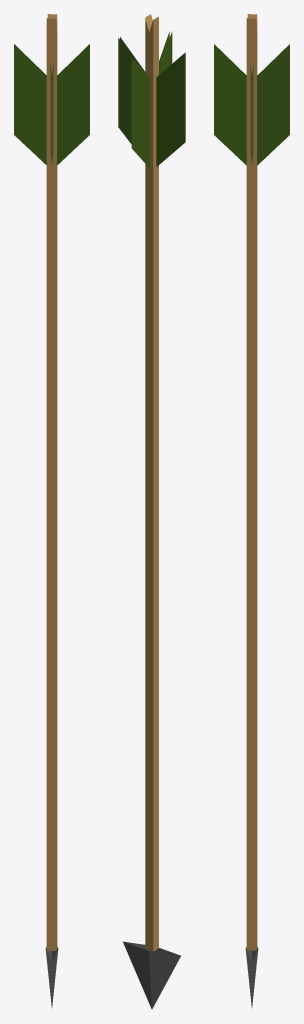
Rendered from Arrow_1.fbx.
3 views of the same model, side by side, from view 1: azimuth 90°, elevation 25°; view 2: azimuth 150°, elevation 25°; view 3: azimuth 270°, elevation 25° (orthographic).
Parts seen in each view (by area): view 1: Comp_Arrow_01; view 2: Comp_Arrow_01; view 3: Comp_Arrow_01.
Boxes of the visible parts, box(x1,y1,x2,y2) form: Comp_Arrow_01: box(14, 14, 89, 1007); Comp_Arrow_01: box(118, 14, 185, 1009); Comp_Arrow_01: box(214, 14, 289, 1007).
Size of the model in its own units: 11.64 by 168 by 11.64.
